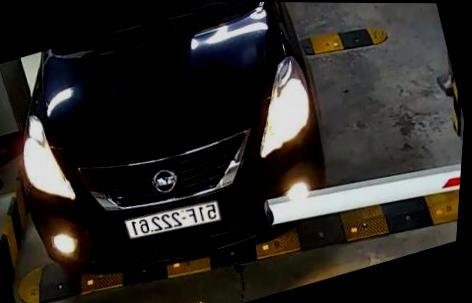License_Plate: (117, 194, 224, 249)
